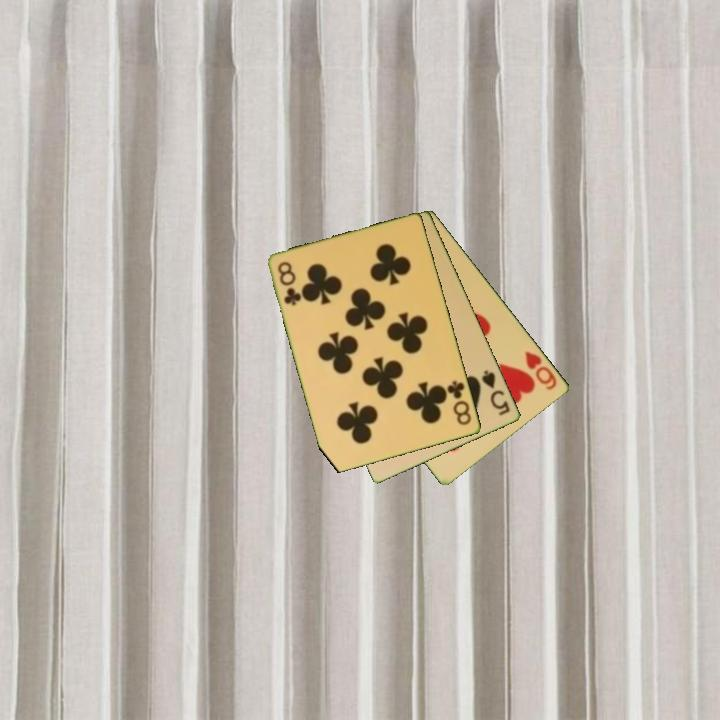5s: (478, 366, 513, 419)
6h: (521, 347, 560, 393)
8c: (444, 377, 474, 428), (274, 258, 304, 309)
